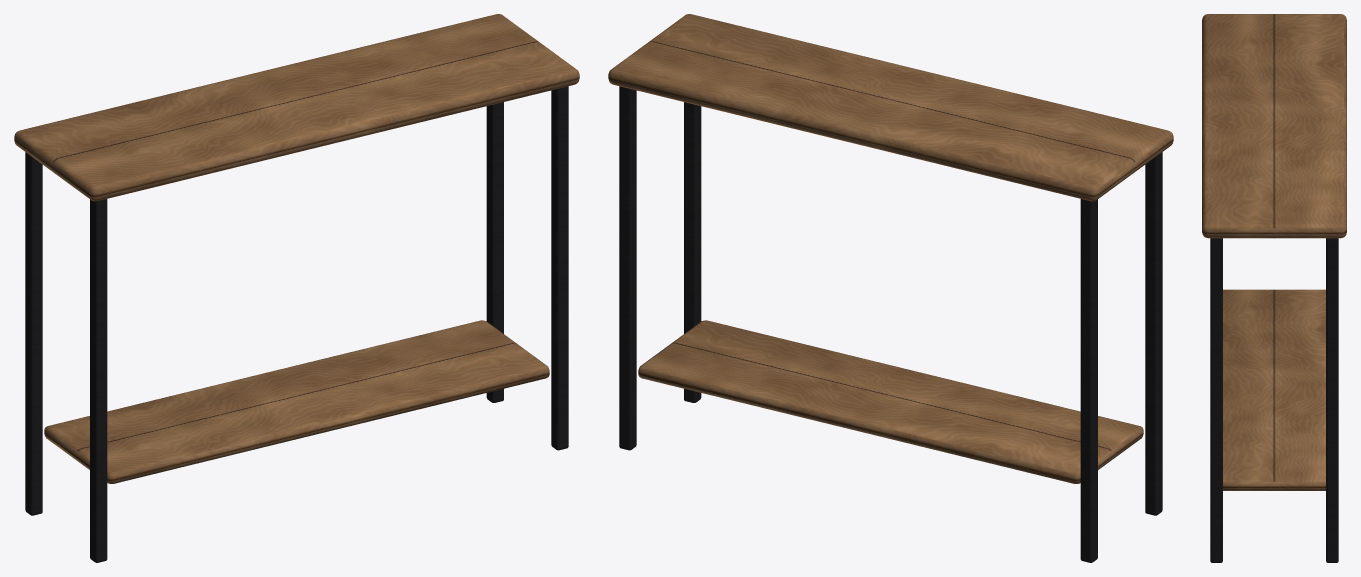
File: corridor_console.glb
3 renders of one model, left to right at view 1: azimuth 30°, elevation 25°; view 2: azimuth 150°, elevation 25°; view 3: azimuth 270°, elevation 25°, orthographic. The views are drawn at different scales.
Visible parts, largest first — view 1: corridor_console; view 2: corridor_console; view 3: corridor_console.
Part boxes in pixels (x1=…): corridor_console: x1=14, y1=14, x2=579, y2=562; corridor_console: x1=608, y1=14, x2=1173, y2=562; corridor_console: x1=1202, y1=14, x2=1346, y2=562.
Size of the model in its own units: 1.05 by 0.78 by 0.3.
Materials: 2 (2 with a texture image).
